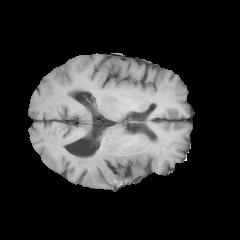glioma: (72, 122, 167, 179)
